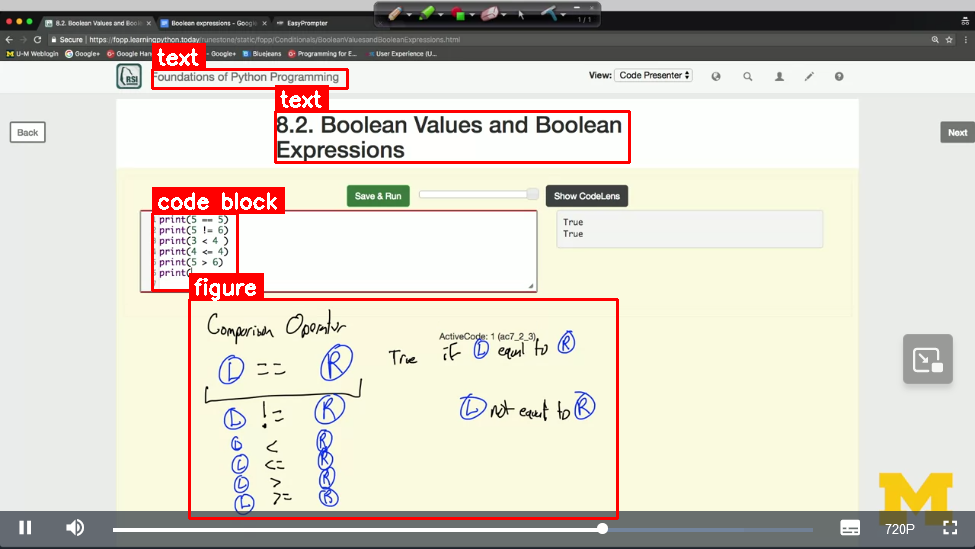code block: (152, 213, 237, 290)
figure: (189, 299, 617, 518)
text: (275, 111, 629, 162), (152, 69, 347, 88)
